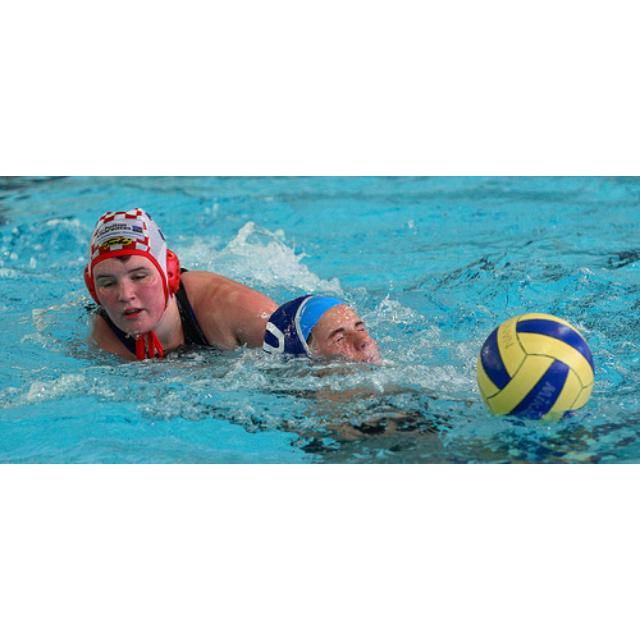human: (77, 208, 288, 353), (263, 291, 391, 379)
